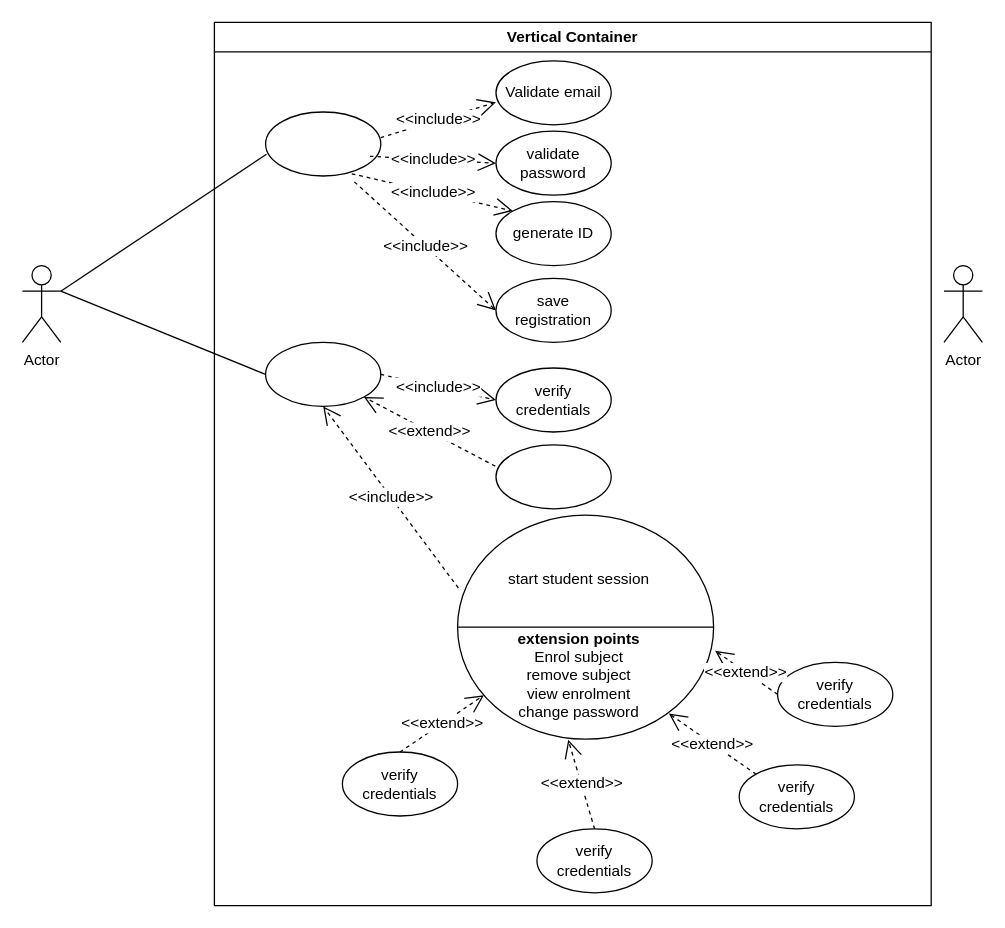
Image size: 1005x928. Some labels were removed from this diagram. Here are the shapes that lost their labels. From the top down, the centre of each, then its label:
At point (322, 143): "register".
At point (322, 373): "login".
At point (553, 476): "login Error".
